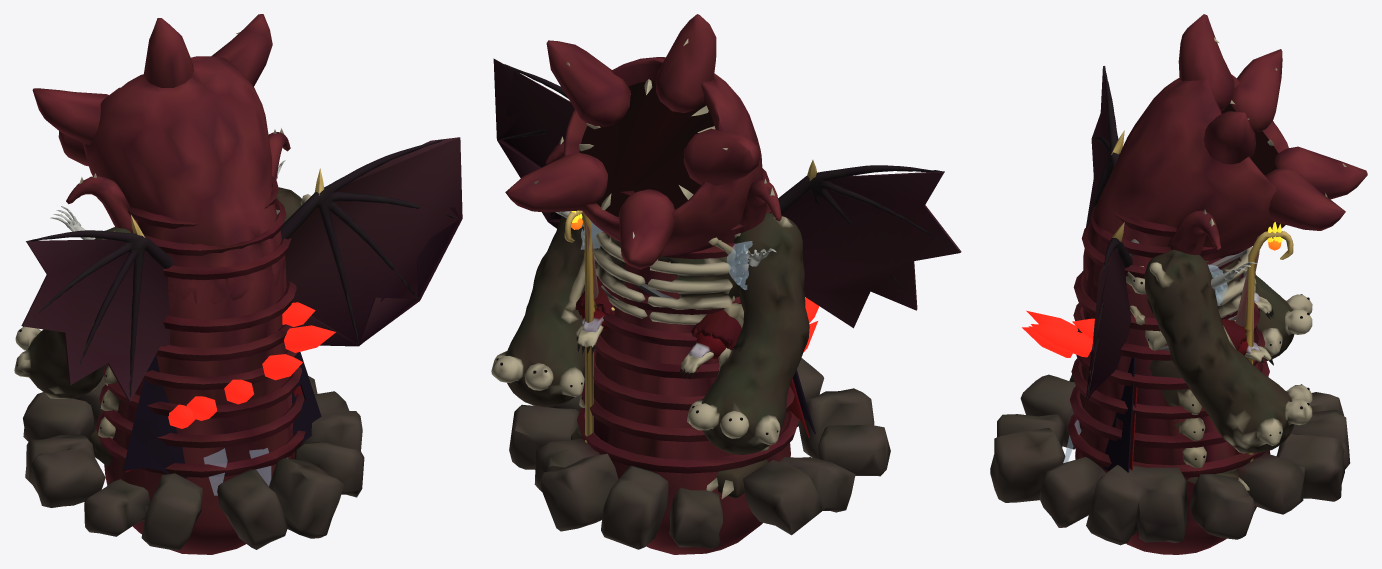
File: jefes.glb
3 renders of one model, left to right at view 1: azimuth 30°, elevation 25°; view 2: azimuth 150°, elevation 25°; view 3: azimuth 270°, elevation 25°, orthographic. The views are drawn at different scales.
Parts seen in each view (by area): view 1: cuerpo (×2), extra_alas, cabeza, mandibula, extra_capa, brazo_izq, extra_tentaculo_izq, pierna_izq, extra_tentaculo_der, brazo_der; view 2: cuerpo (×2), extra_alas, brazo_izq (×4), mandibula, cabeza, brazo_der (×3), extra_tentaculo_izq, pierna_izq, extra_capa; view 3: cuerpo (×2), cabeza, brazo_der (×4), mandibula, extra_alas, brazo_izq, pierna_der, extra_capa, extra_tentaculo_der.
Part boxes in pixels (left/top/right/bottom): cuerpo (×2): left=23, top=255, right=364, bottom=554; extra_alas: left=21, top=137, right=462, bottom=401; cabeza: left=83, top=56, right=291, bottom=303; mandibula: left=32, top=14, right=272, bottom=166; extra_capa: left=123, top=352, right=321, bottom=478; brazo_izq: left=14, top=227, right=130, bottom=398; extra_tentaculo_izq: left=66, top=173, right=138, bottom=230; pierna_izq: left=89, top=365, right=124, bottom=465; extra_tentaculo_der: left=268, top=128, right=290, bottom=179; brazo_der: left=276, top=187, right=310, bottom=223; cuerpo (×2): left=509, top=230, right=890, bottom=554; extra_alas: left=493, top=58, right=961, bottom=328; brazo_izq (×4): left=679, top=212, right=809, bottom=454; mandibula: left=505, top=14, right=760, bottom=269; cabeza: left=563, top=57, right=771, bottom=261; brazo_der (×3): left=491, top=210, right=614, bottom=442; extra_tentaculo_izq: left=739, top=178, right=781, bottom=233; pierna_izq: left=706, top=446, right=769, bottom=498; extra_capa: left=789, top=369, right=815, bottom=437; cuerpo (×2): left=990, top=239, right=1350, bottom=554; cabeza: left=1081, top=74, right=1288, bottom=293; brazo_der (×4): left=1144, top=222, right=1312, bottom=461; mandibula: left=1178, top=14, right=1367, bottom=230; extra_alas: left=1086, top=66, right=1132, bottom=399; brazo_izq: left=1255, top=274, right=1312, bottom=360; pierna_der: left=1149, top=360, right=1249, bottom=490; extra_capa: left=1103, top=357, right=1137, bottom=472; extra_tentaculo_der: left=1167, top=209, right=1221, bottom=254.
Size of the model in its own units: 4.42 by 5 by 3.3.
